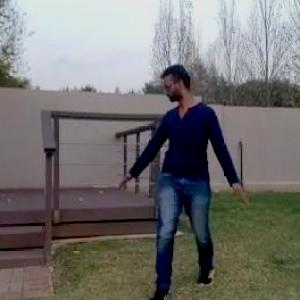land: (112, 58, 246, 299)
